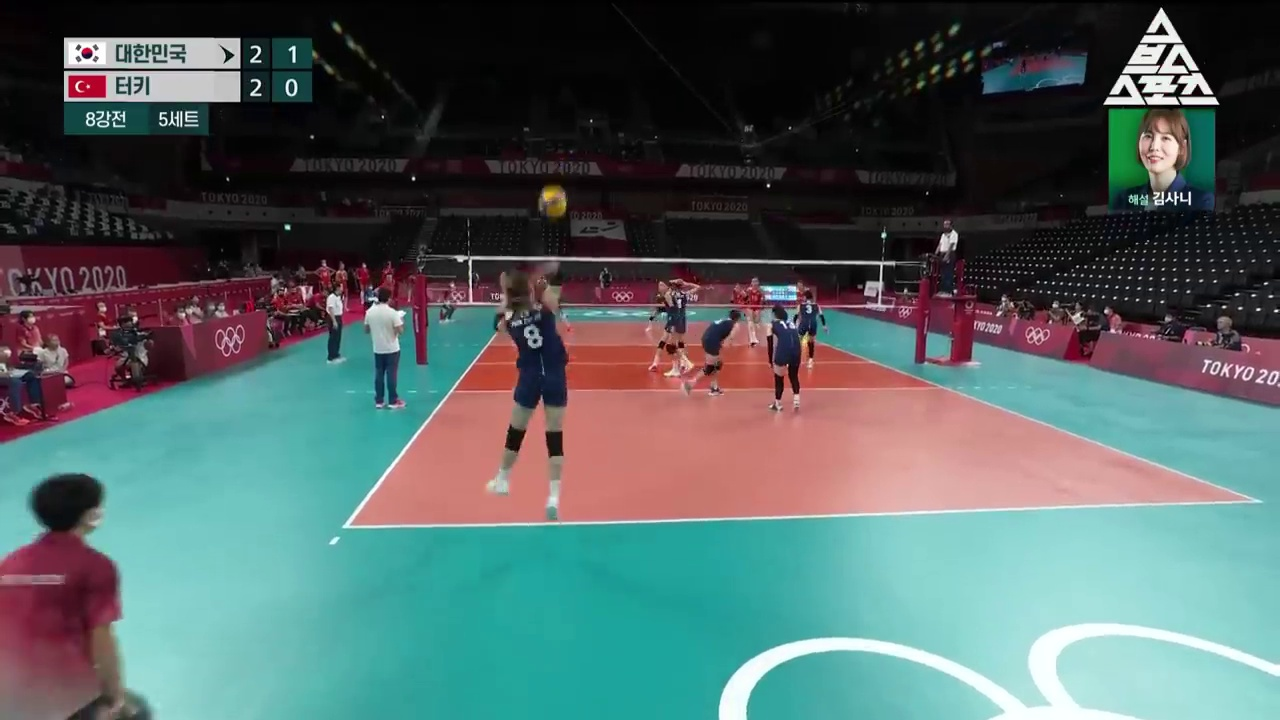ball: (539, 185, 567, 217)
player: (486, 262, 569, 518), (683, 310, 741, 396), (649, 279, 700, 371), (767, 305, 801, 412), (658, 282, 694, 376), (793, 292, 827, 369)
player 1: (745, 278, 764, 346), (726, 283, 755, 326), (795, 280, 813, 330)
referee: (935, 220, 958, 297), (326, 281, 346, 363)
